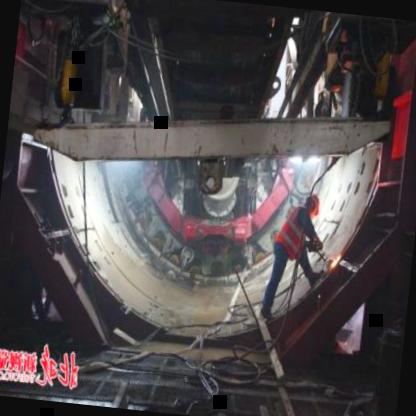helmet: (302, 189, 324, 220)
